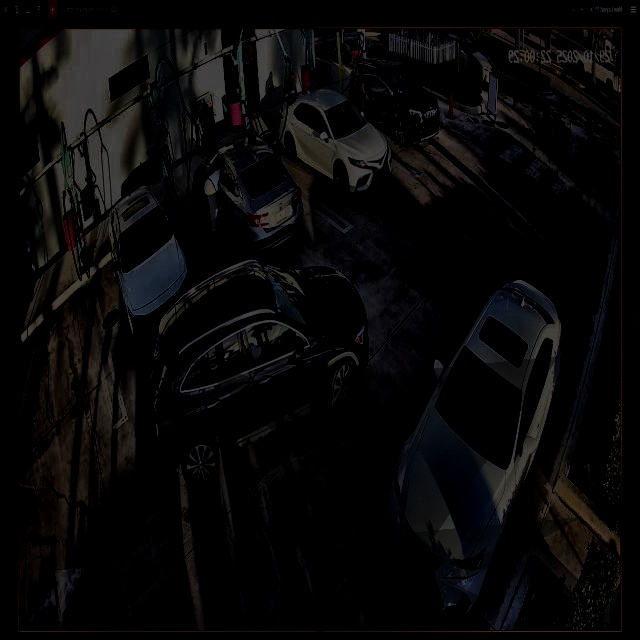Car: (385, 281, 563, 614), (152, 264, 368, 487), (193, 136, 301, 261), (109, 185, 188, 344), (277, 89, 389, 193), (350, 57, 437, 146)
